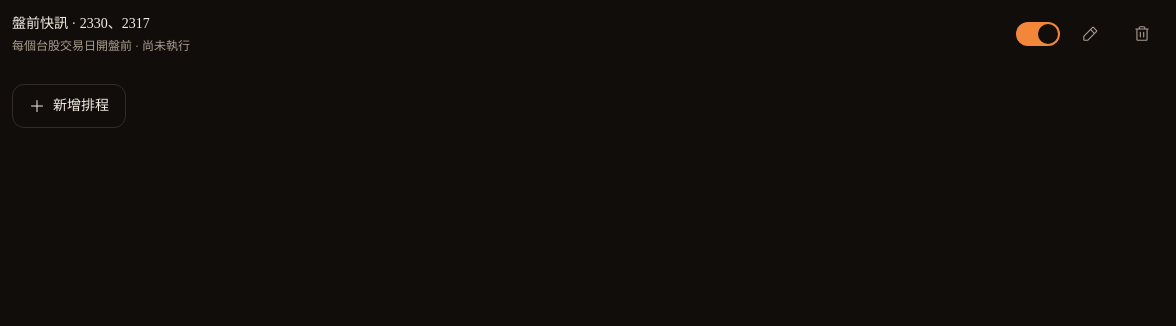
Test: ScheduleList rows › the plus button under the list opens create, and hides while a form is open
This screenshot has width=1176, height=326.
Click the button "新增排程". click: [69, 106]
box: [12,84,126,128]
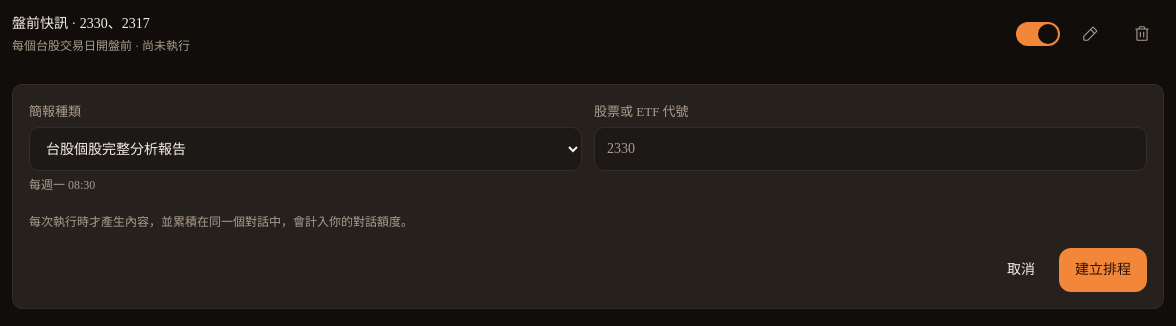
Now the button "新增排程" is gone
Now the form is shown
